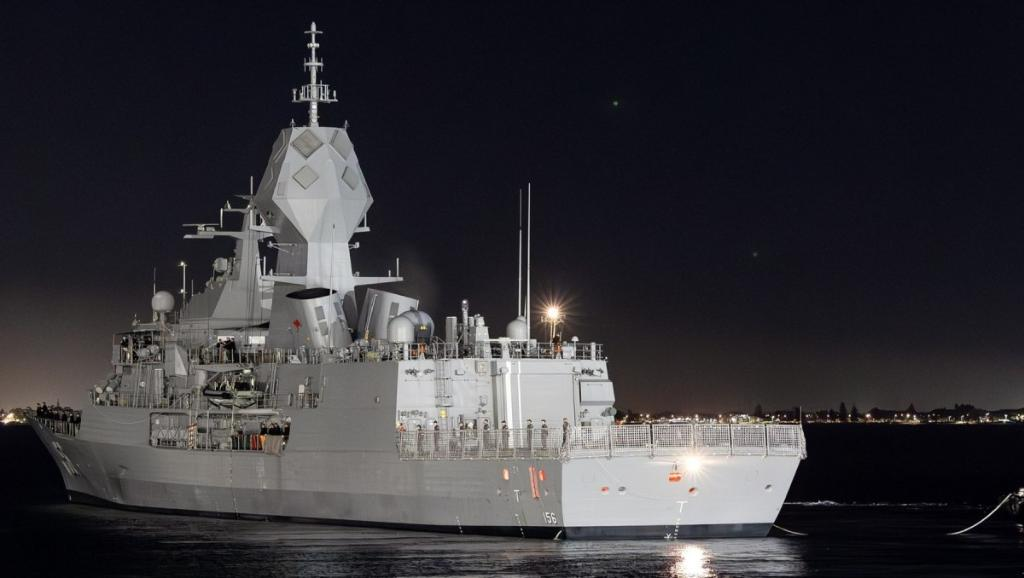Warship: (22, 20, 818, 548)
